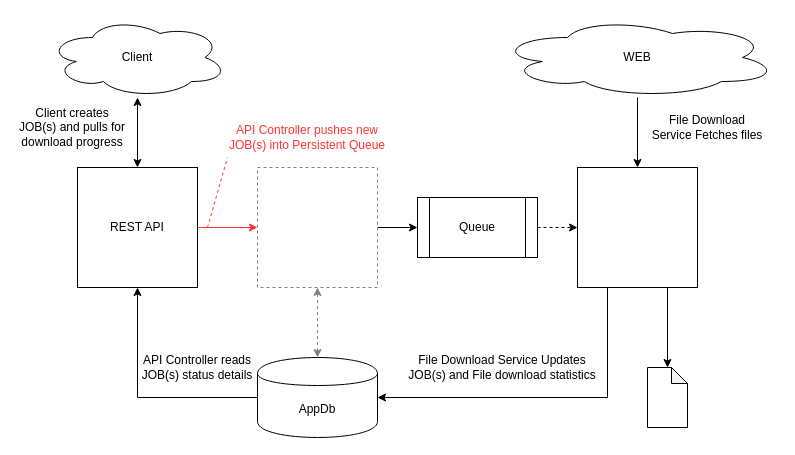
This 795x455 diagram has some shape labels left out. The shapes that lost their labels are listed below. From the top down, each one's box as (x1, y1, x2, y2) in pixels, then its label:
(256, 166, 378, 288): Persistent Queue Manager
(576, 166, 698, 288): File Download Service
